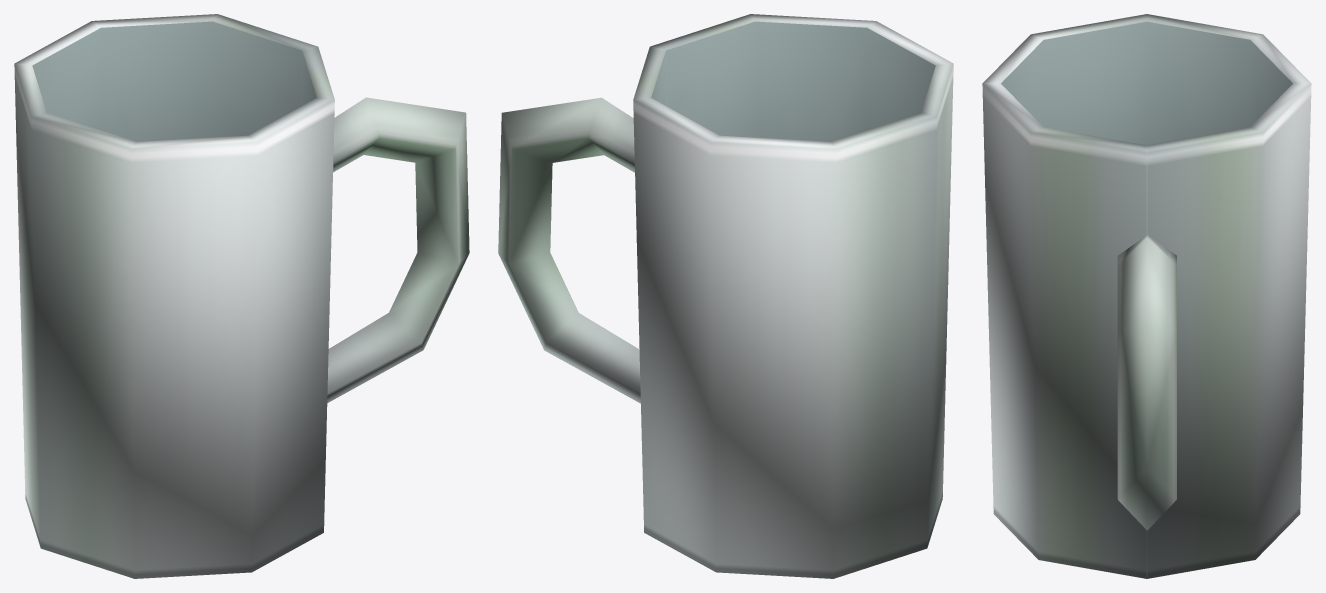
File: ShenMiRenJia_01_makebei_01.FBX
3 renders of one model, left to right at view 1: azimuth 30°, elevation 25°; view 2: azimuth 150°, elevation 25°; view 3: azimuth 270°, elevation 25°, orthographic.
Visible parts, largest first — view 1: ShenMiRenJia_01_makebei_01; view 2: ShenMiRenJia_01_makebei_01; view 3: ShenMiRenJia_01_makebei_01.
Part boxes in pixels (box(x1,y1,x2,y2)): ShenMiRenJia_01_makebei_01: box(14, 14, 469, 578); ShenMiRenJia_01_makebei_01: box(498, 14, 953, 578); ShenMiRenJia_01_makebei_01: box(982, 14, 1311, 578).
Bounding box in the file's own units: 78.33 × 74.07 × 51.3.
